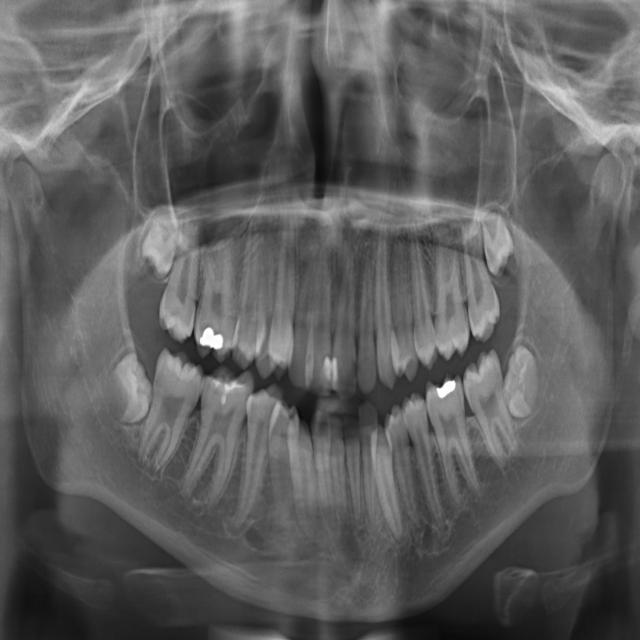3M ESPE Implant: (136, 207, 182, 281)
AGS Medikal Implant: (352, 249, 377, 395)
AMerOss Implant: (369, 210, 398, 390)
Amalgam filling: (381, 231, 420, 383)
Anthogyr Implant: (395, 218, 441, 372)
Bicon Implant: (426, 223, 472, 361)
BioHorizons Implant: (457, 209, 503, 344)
BioLife Implant: (477, 203, 518, 280)
Biomet 3i Implant: (500, 343, 542, 420)
Blue Sky Bio Implant: (456, 347, 525, 473)
Camlog Implant: (422, 372, 483, 509)
Caries: (156, 212, 205, 344)
Composite filling: (400, 391, 447, 536)
Cowellmedi Implant: (381, 402, 430, 535)
Crown: (368, 423, 406, 544)
DENTSPLY Implant: (358, 399, 380, 524)
Dentatus Implant: (342, 412, 368, 528)
Dentis Implant: (327, 413, 350, 524)
Dentium Implant: (309, 408, 341, 535)
Euroteknika Implant: (285, 418, 322, 543)
Filling: (265, 400, 300, 527)
Frontier Implant: (215, 377, 286, 534)
Hiossen Implant: (188, 236, 249, 363)
Implant: (133, 345, 208, 481)
Implant Direct: (177, 361, 257, 513)
Keystone Dental Implant: (99, 349, 159, 428)
MIS Implant: (231, 217, 265, 369)
Mandible: (255, 223, 278, 380)
Maxilla: (267, 200, 303, 380)
Megagen Implant: (287, 249, 319, 392)
Neodent Implant: (310, 241, 338, 395)
Neoss Implant: (331, 245, 359, 403)
